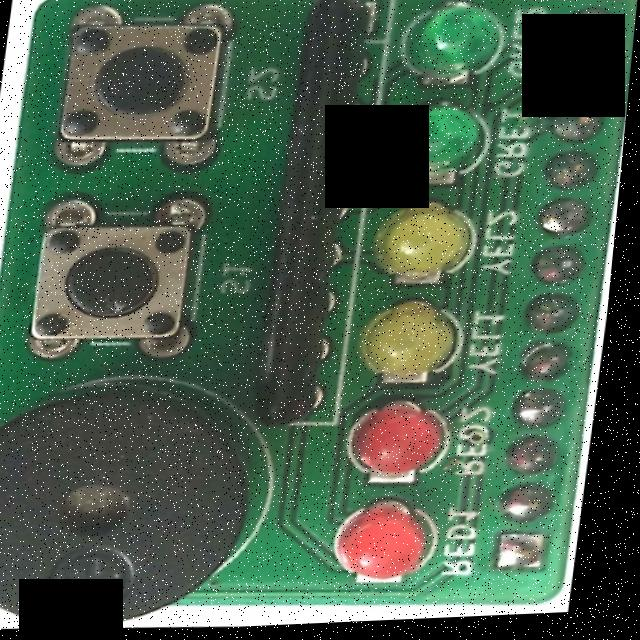2235: (3, 204, 203, 348), (48, 13, 244, 158)
IC: (243, 0, 389, 431)
LED: (330, 500, 448, 592), (394, 0, 508, 85), (345, 410, 463, 490), (348, 311, 464, 387), (373, 205, 483, 283), (388, 111, 493, 190)
buzzer: (0, 382, 284, 640)
